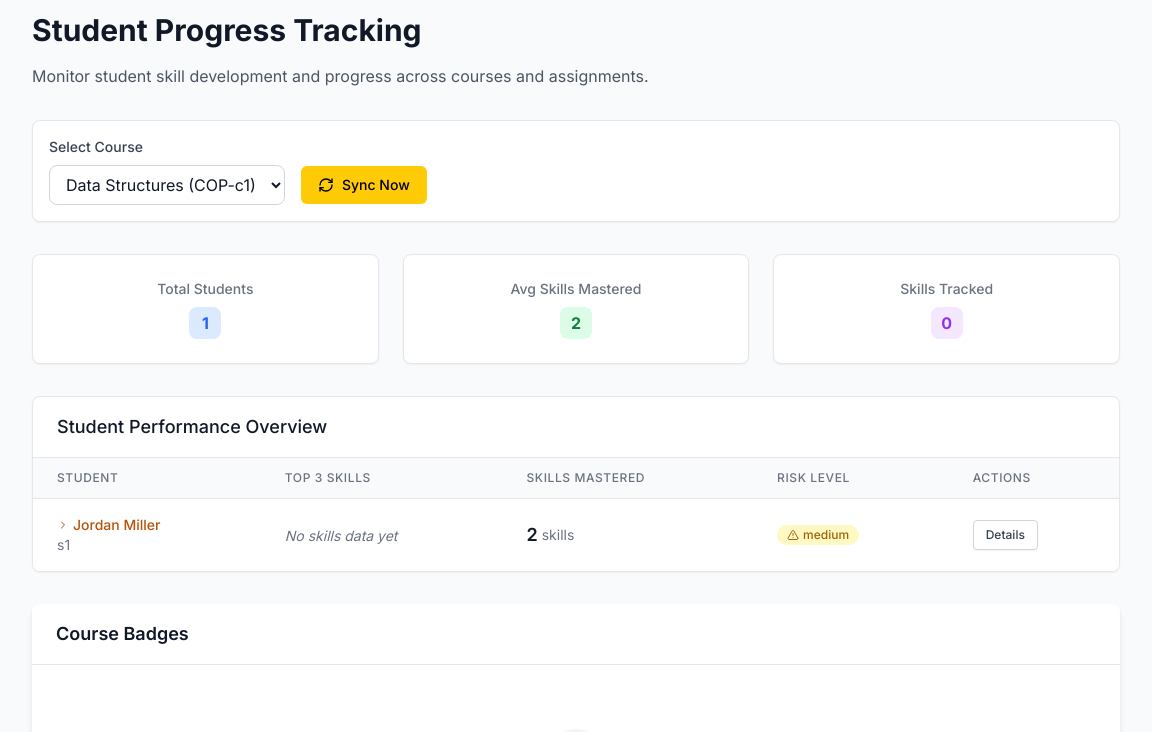
Test case: instructor badge view › clicking "Get Share Link" shows a copyable link for that student
Click the button "Jordan Miller".
click(109, 525)  # box [57,515,160,535]
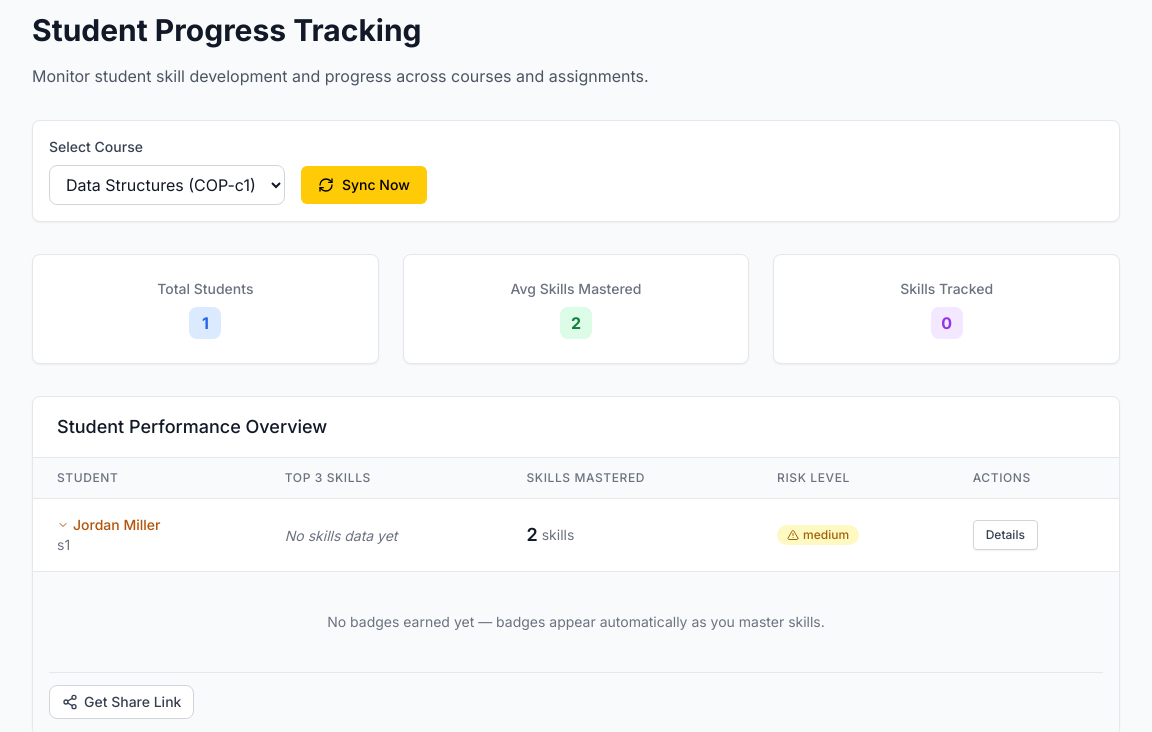
Now the button "Get Share Link" is shown
Click the button "Get Share Link".
click(122, 702)  # box [49,685,194,719]
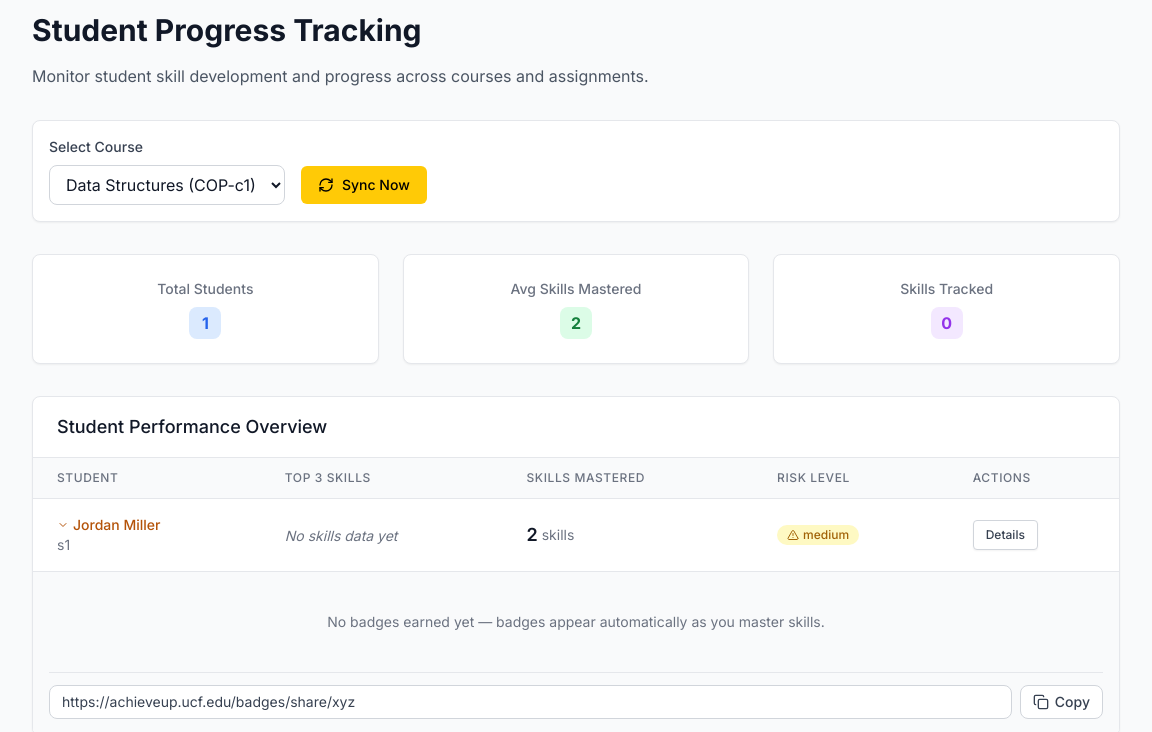
Now the field showing "https://achieveup.ucf.edu/badges/share/xyz" is shown, box [49,685,1012,719]
